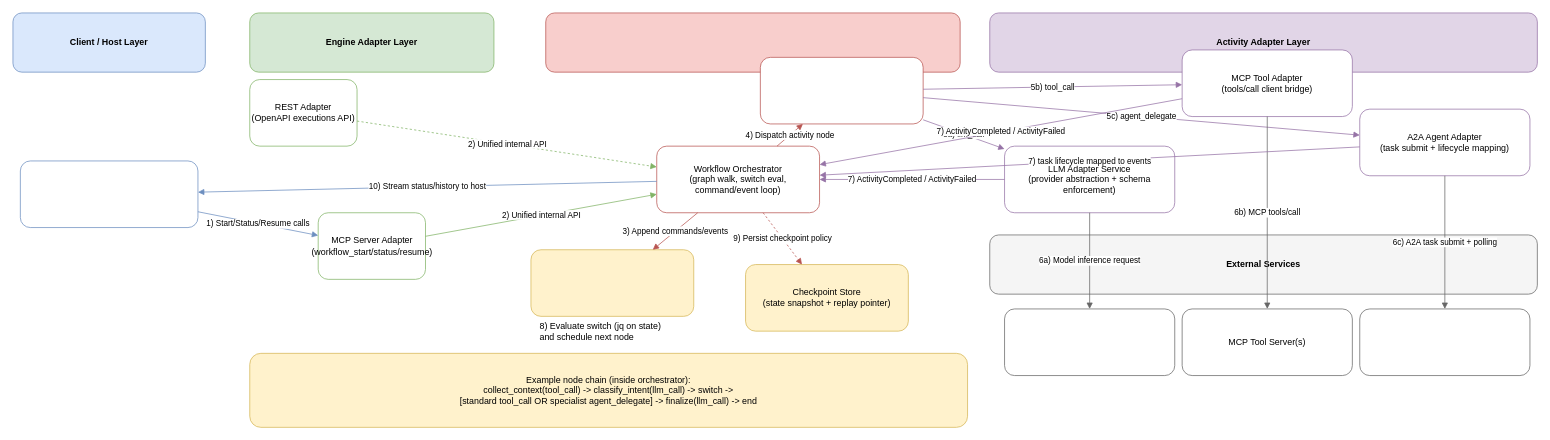
The diagram is 1550 pixels wide and 440 high, and some of its shapes have lost their labels. Each missing label, with the centre of its shape:
"Activity Scheduler (dispatch non-deterministic nodes)" goes at (841,90).
"Assistant Host Process (IDE / Desktop / API Client)" goes at (109,194).
"Engine Core Layer" goes at (752,42).
"History Store (append-only commands/events)" goes at (612,282).
"LLM Provider API" goes at (1089,342).
"Specialist Agent Runtime (A2A peer agent)" goes at (1444,342).
